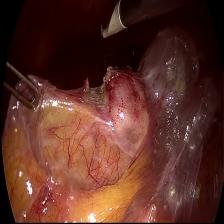Grasper: (3, 55, 44, 114)
Hook: (97, 0, 131, 49)
